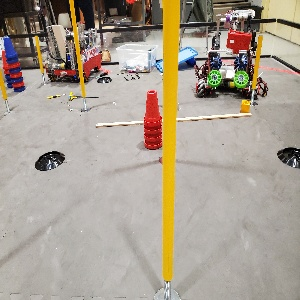Red_4: (143, 87, 165, 148)
